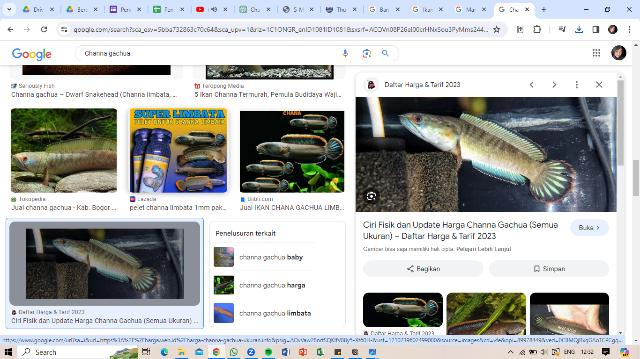Mulut: (459, 110, 547, 166), (394, 106, 430, 148)
Sirip Anal: (468, 160, 530, 190)
Sirip Ekor: (530, 157, 576, 206)
